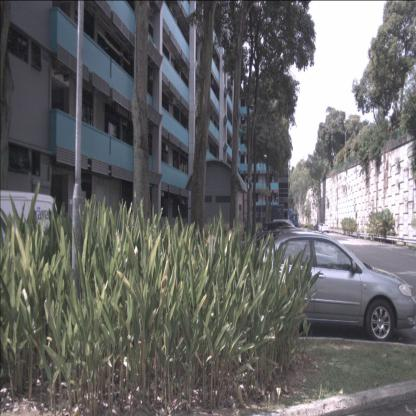vehicle-car: (232, 233, 416, 344), (261, 221, 303, 245), (321, 224, 330, 233), (318, 223, 325, 232)
vehicle-truck: (284, 208, 298, 230)
